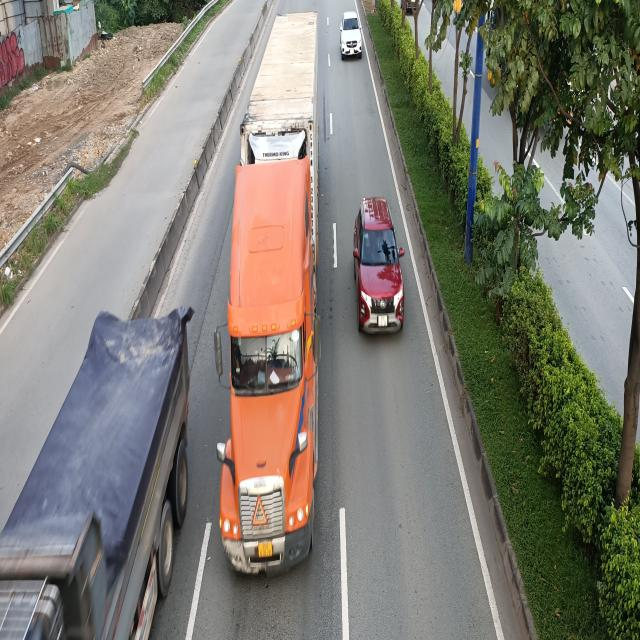car: (350, 199, 403, 340), (341, 8, 365, 56)
container: (214, 9, 329, 575), (0, 305, 194, 640)
